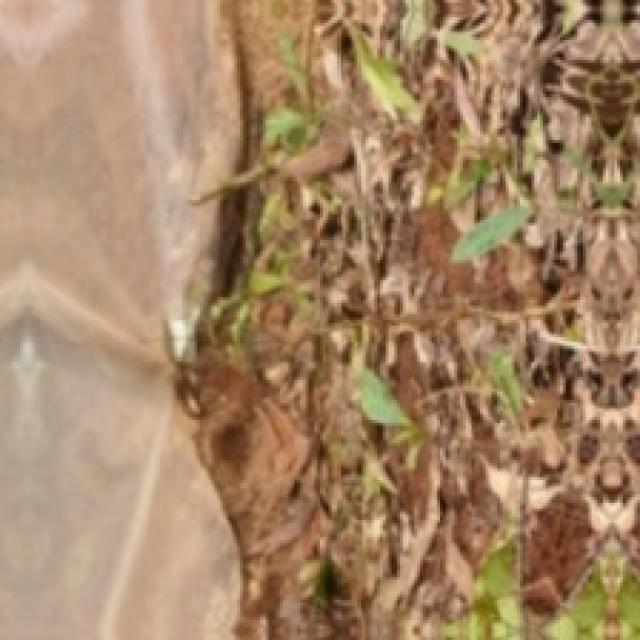king cobra: (178, 0, 359, 639)
